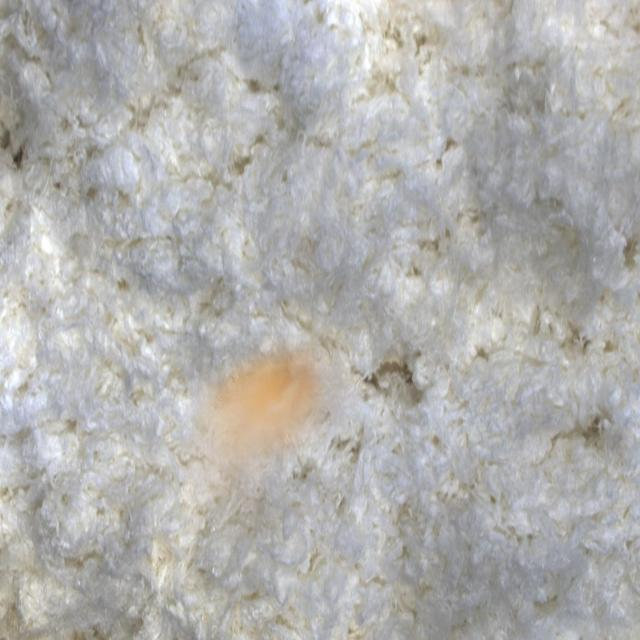dust: (174, 333, 361, 559)
